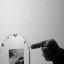g: (29, 37, 61, 62)
